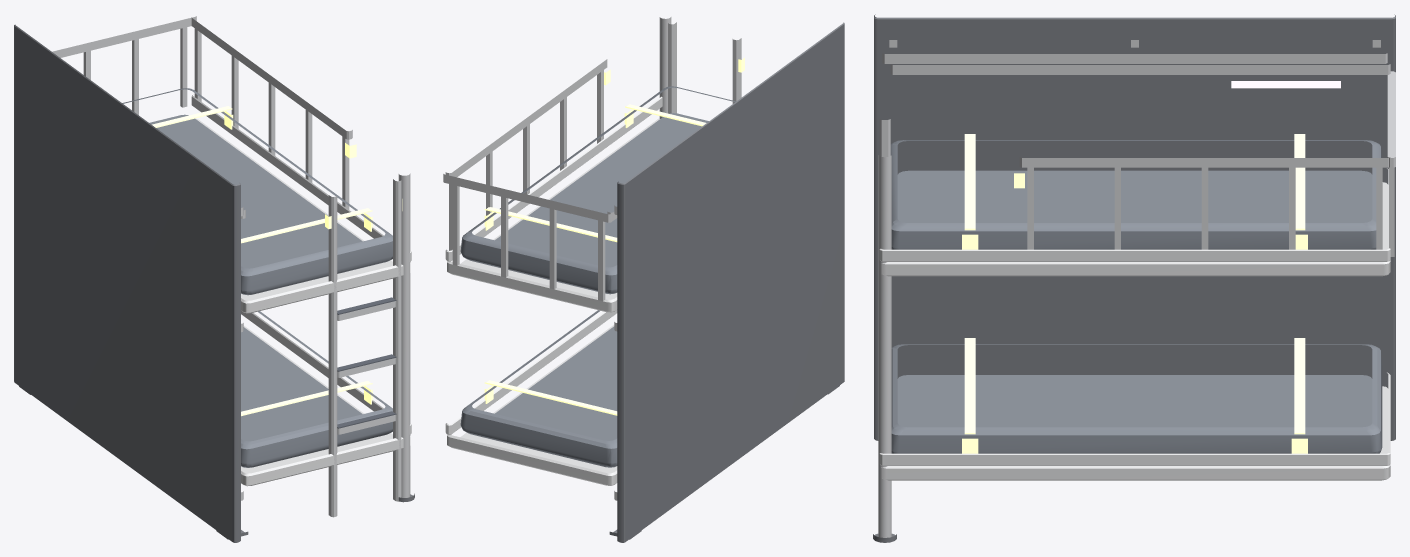
Rendered from kids_bunk_wall_clamped.glb.
The picture shows the model from 3 angles, left to right: view 1: azimuth 30°, elevation 25°; view 2: azimuth 150°, elevation 25°; view 3: azimuth 270°, elevation 25°; orthographic projection. The views are drawn at different scales.
Parts seen in each view (by area): view 1: Wall_Plate, Mattress_Up, Mattress_Lo, Ladder, Guard_Rails, Decks, Deck_Lip, Front_Post, Mattress_Latches, Ladder_Treads; view 2: Wall_Plate, Mattress_Up, Mattress_Lo, Guard_Rails, Decks, Deck_Lip, Mattress_Latches, Ladder, Front_Post; view 3: Wall_Plate, Mattress_Lo, Mattress_Up, Decks, Deck_Lip, Guard_Rails, Mattress_Latches, Wall_Rails, Front_Post, Reading_Light.
Part boxes in pixels (x1=…): Wall_Plate: x1=14, y1=24, x2=240, y2=542; Mattress_Up: x1=122, y1=88, x2=392, y2=295; Mattress_Lo: x1=241, y1=311, x2=392, y2=467; Ladder: x1=328, y1=179, x2=401, y2=517; Guard_Rails: x1=52, y1=16, x2=352, y2=218; Decks: x1=195, y1=118, x2=410, y2=486; Deck_Lip: x1=191, y1=95, x2=411, y2=434; Front_Post: x1=398, y1=173, x2=410, y2=497; Mattress_Latches: x1=152, y1=106, x2=372, y2=416; Ladder_Treads: x1=337, y1=297, x2=396, y2=428; Wall_Plate: x1=617, y1=22, x2=844, y2=542; Mattress_Up: x1=460, y1=86, x2=735, y2=294; Mattress_Lo: x1=460, y1=310, x2=617, y2=467; Guard_Rails: x1=443, y1=59, x2=617, y2=301; Decks: x1=447, y1=118, x2=659, y2=485; Deck_Lip: x1=445, y1=96, x2=662, y2=434; Mattress_Latches: x1=484, y1=104, x2=706, y2=415; Ladder: x1=668, y1=22, x2=741, y2=113; Front_Post: x1=659, y1=17, x2=671, y2=118; Wall_Plate: x1=874, y1=14, x2=1395, y2=440; Mattress_Lo: x1=891, y1=344, x2=1382, y2=453; Mattress_Up: x1=890, y1=140, x2=1381, y2=249; Decks: x1=881, y1=168, x2=1390, y2=480; Deck_Lip: x1=879, y1=248, x2=1390, y2=465; Guard_Rails: x1=890, y1=64, x2=1395, y2=256; Mattress_Latches: x1=962, y1=134, x2=1307, y2=453; Wall_Rails: x1=882, y1=53, x2=1387, y2=63; Front_Post: x1=878, y1=155, x2=891, y2=537; Reading_Light: x1=1231, y1=81, x2=1340, y2=88.
Bounding box in the file's own units: 0.915 × 1.7 × 1.9.
